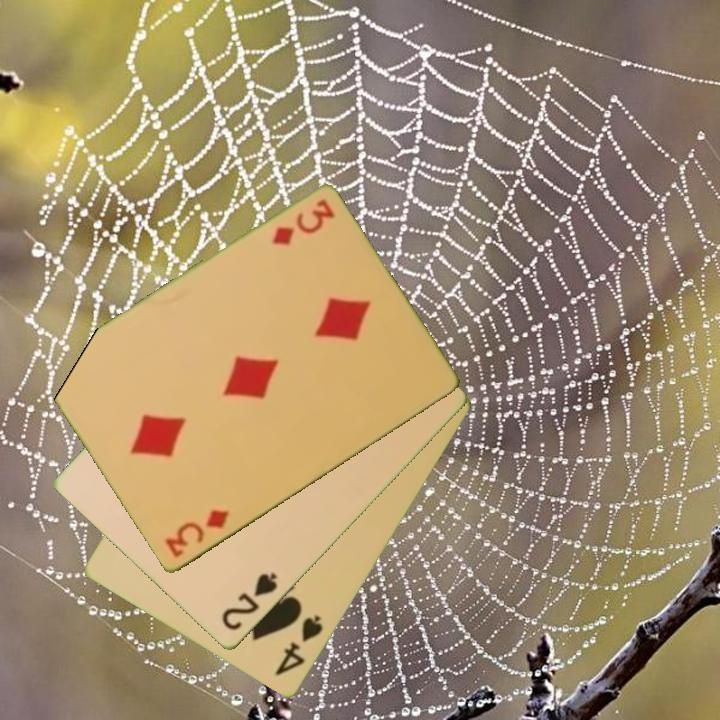2s: (218, 569, 281, 634)
3d: (161, 506, 232, 562), (268, 196, 338, 250)
4s: (271, 612, 326, 680)
